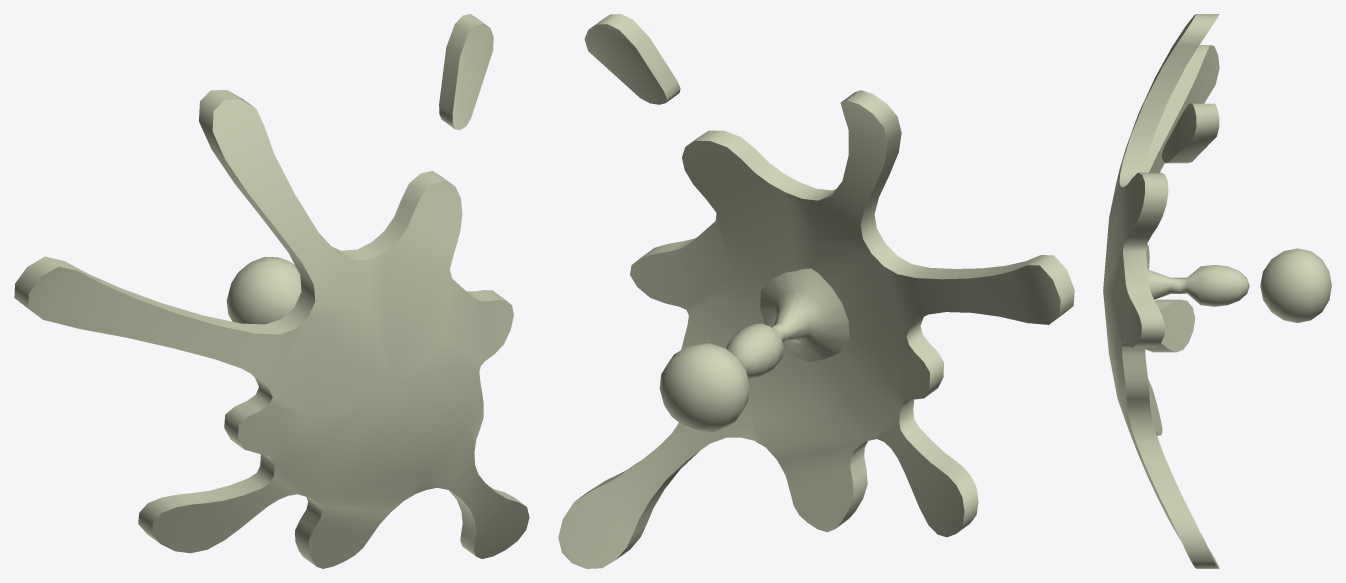
File: paint.obj
3 views of the same model, side by side, from view 1: azimuth 30°, elevation 25°; view 2: azimuth 150°, elevation 25°; view 3: azimuth 270°, elevation 25° (orthographic). The views are drawn at different scales.
Visible parts, largest first — view 1: Cylinder002; view 2: Cylinder002; view 3: Cylinder002.
Part boxes in pixels (<box>): Cylinder002: <box>14,14,529,568</box>; Cylinder002: <box>558,14,1074,568</box>; Cylinder002: <box>1103,14,1331,568</box>.
Bounding box in the file's own units: 2.45 × 2.53 × 1.16.
